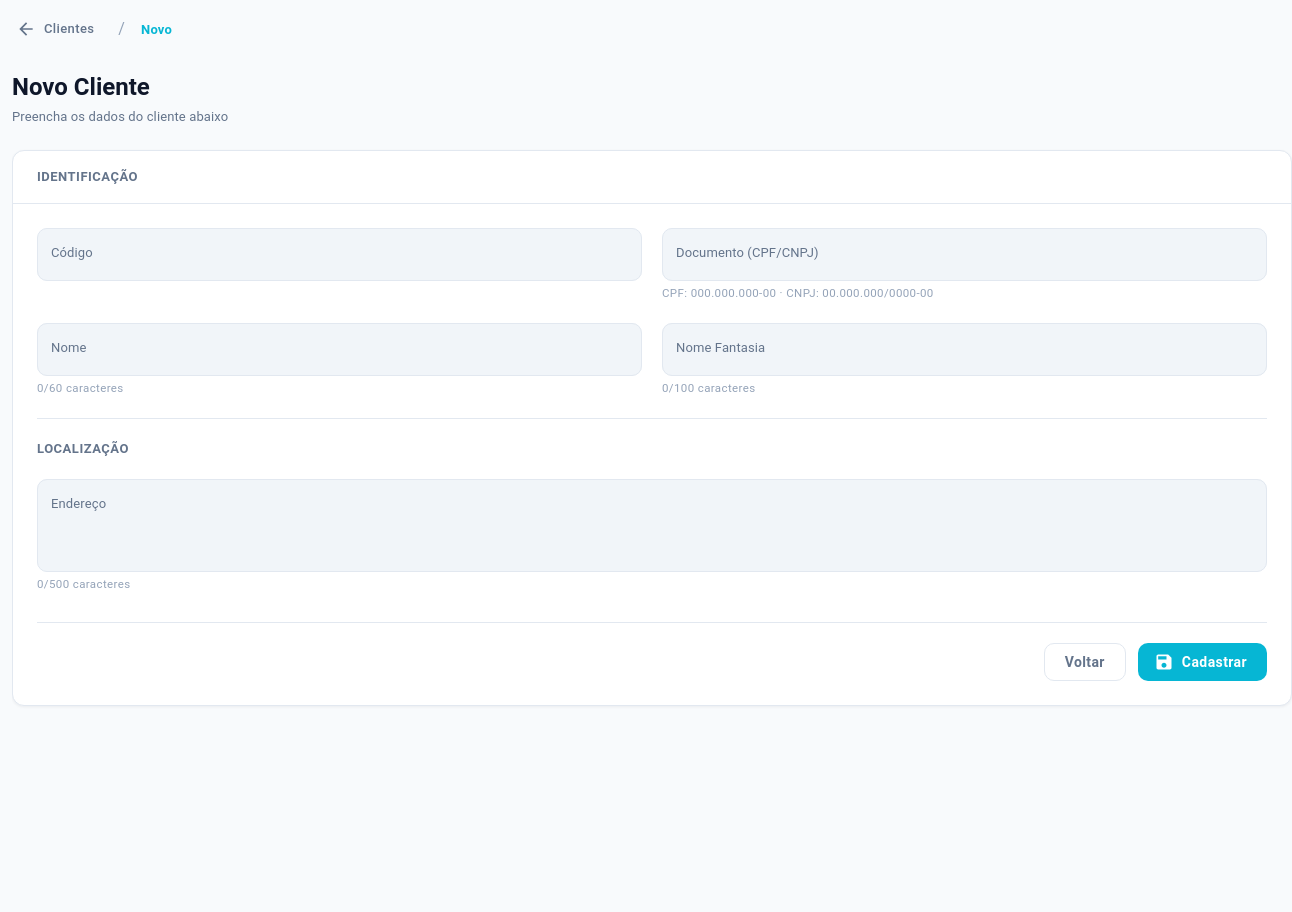
ClienteForm validation › shows validation errors when submitting empty form
The width and height of the screenshot is (1292, 912).
Click the button "Cadastrar": {"x": 1202, "y": 662} [1138,643,1267,681]
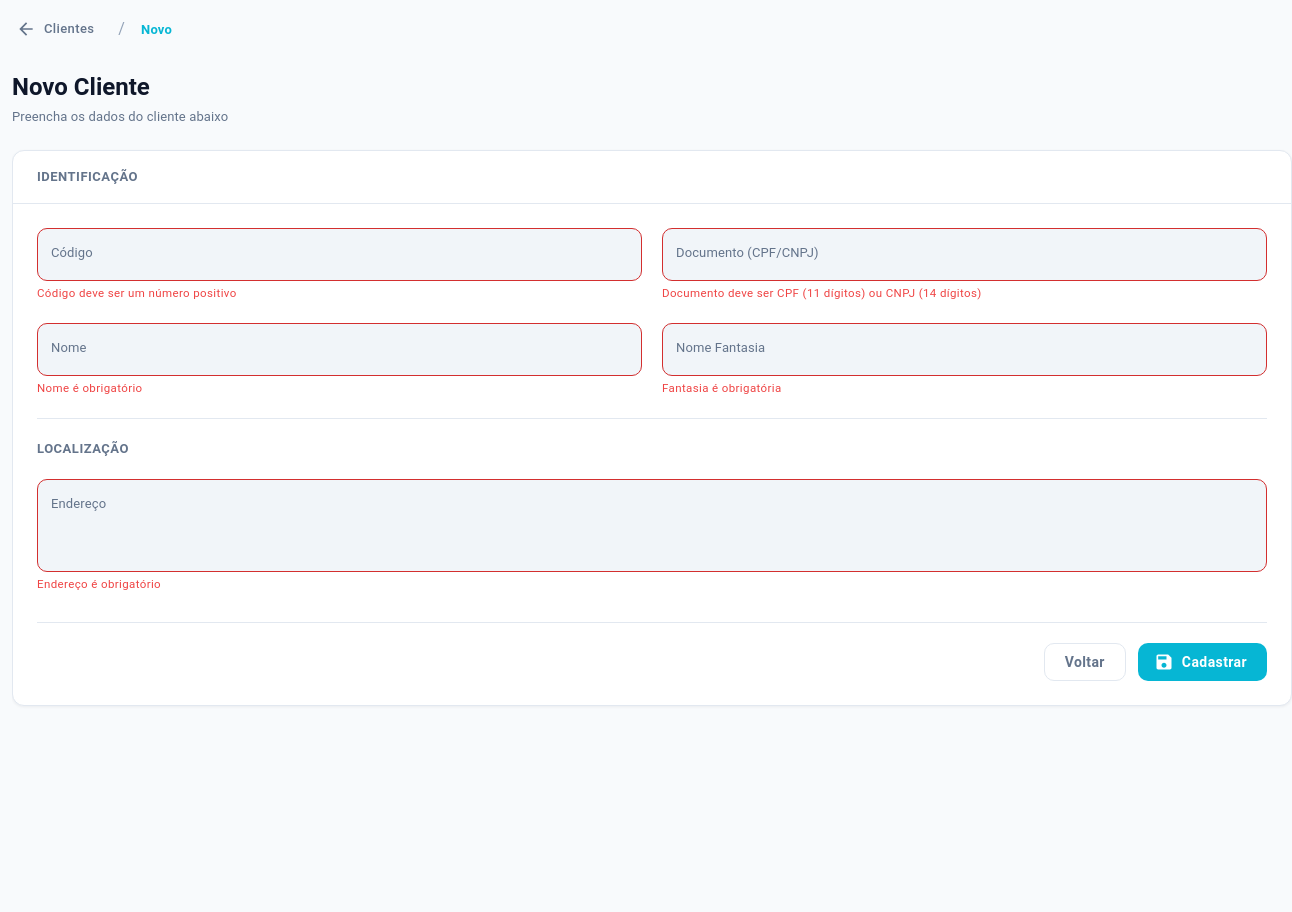
Expected: the text "Código deve ser um número positivo" is shown, [37,286,237,300]
Expected: the text "Nome é obrigatório" is shown, [37,381,142,395]
Expected: the text "Fantasia é obrigatória" is shown, [662,381,782,395]
